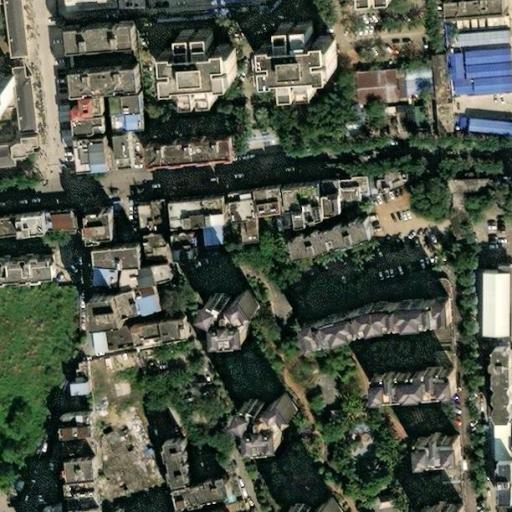building: (296, 299, 440, 346), (65, 65, 145, 131), (260, 20, 330, 91), (165, 27, 233, 99), (445, 28, 512, 97), (155, 440, 219, 508), (191, 289, 250, 339), (237, 399, 296, 448), (479, 337, 512, 423), (295, 226, 371, 263), (418, 281, 448, 370), (367, 368, 450, 398), (145, 136, 229, 165), (64, 131, 121, 169), (345, 69, 399, 109), (280, 181, 324, 226), (478, 267, 506, 337), (58, 23, 123, 53), (170, 195, 228, 228), (122, 296, 168, 331), (0, 0, 25, 60), (320, 177, 356, 217), (483, 350, 502, 423), (360, 173, 415, 197), (84, 325, 129, 354), (433, 461, 458, 512), (411, 436, 454, 464), (0, 258, 50, 282), (78, 210, 110, 247), (447, 180, 483, 212), (396, 67, 429, 101), (94, 294, 125, 330), (88, 245, 134, 267), (135, 265, 172, 292), (225, 189, 256, 221), (134, 201, 164, 234), (461, 118, 508, 138), (127, 330, 165, 354), (58, 411, 91, 437), (252, 186, 282, 214), (68, 0, 117, 17), (59, 435, 91, 460), (488, 423, 507, 465), (76, 210, 102, 240), (174, 230, 200, 260), (426, 51, 442, 99), (399, 99, 424, 128), (64, 458, 96, 480), (488, 465, 507, 502), (24, 218, 55, 240), (162, 326, 192, 348), (89, 266, 118, 288), (50, 212, 77, 235), (236, 218, 258, 246), (116, 265, 137, 294), (438, 214, 460, 241), (482, 176, 512, 195), (140, 405, 159, 435), (0, 221, 27, 242), (196, 223, 221, 245), (64, 491, 98, 507), (70, 366, 88, 395), (266, 211, 285, 238), (63, 478, 97, 493), (432, 98, 445, 133), (141, 246, 166, 264), (0, 75, 16, 100), (140, 236, 165, 249), (309, 500, 336, 512), (468, 460, 486, 476), (419, 505, 457, 512), (481, 423, 488, 460), (491, 502, 507, 512), (0, 325, 4, 338)
